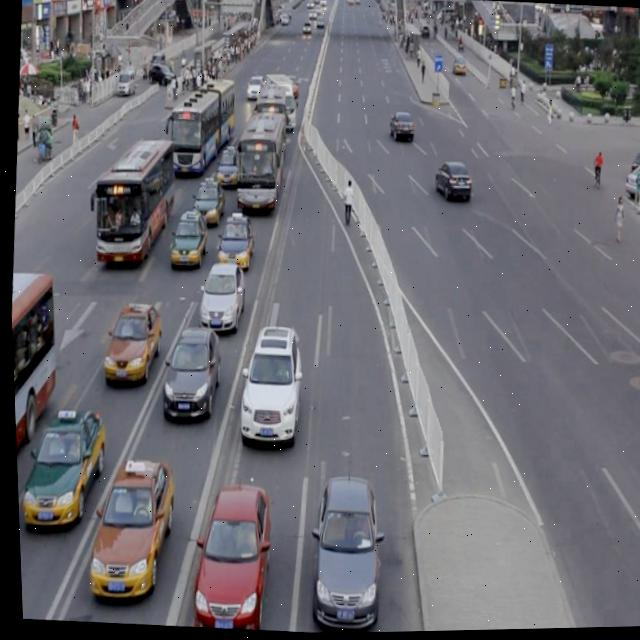bus: (261, 75, 297, 133)
car: (80, 451, 175, 602), (183, 478, 270, 633), (301, 472, 384, 629), (17, 401, 104, 524), (231, 322, 304, 446), (156, 321, 220, 415), (98, 298, 162, 380), (195, 259, 245, 329), (165, 207, 207, 267), (212, 210, 253, 268), (189, 175, 225, 226), (431, 160, 471, 203), (214, 144, 239, 186), (617, 163, 640, 203), (386, 112, 412, 142), (244, 74, 264, 100), (284, 77, 298, 100)
van: (8, 268, 65, 536), (82, 134, 176, 267), (161, 74, 237, 179), (229, 109, 288, 211), (250, 87, 288, 147)
